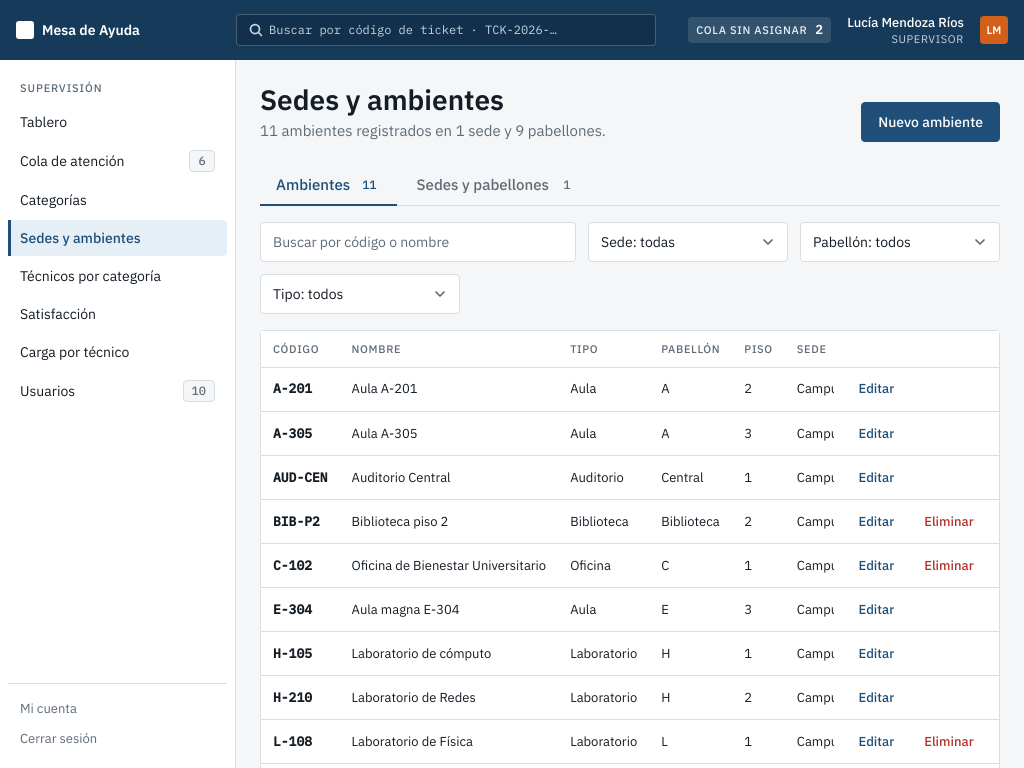
UbicacionesPage · ambientes › registra un ambiente en la ventana y lo muestra en la lista
Check: the element named "Secciones de sedes y ambientes" is shown, box [260, 166, 1000, 206]
Check: the text "Cola sin asignar" is shown, box [696, 22, 807, 38]
Click the button "Nuevo ambiente".
click(931, 122)  # box [861, 102, 1000, 142]
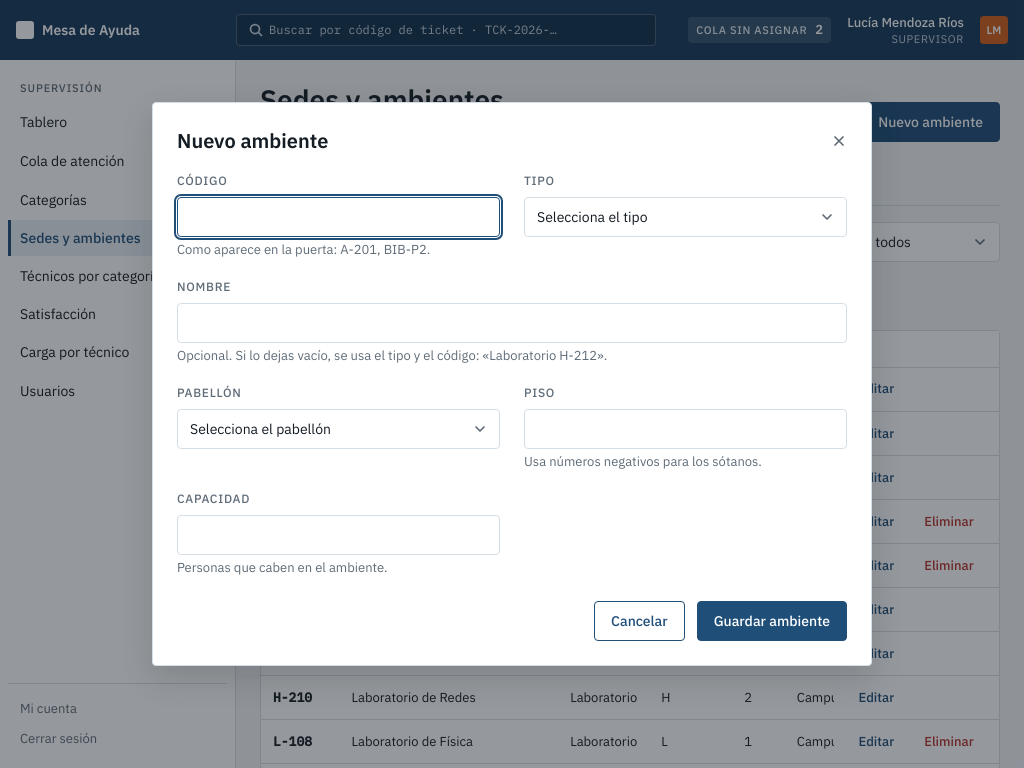
Type "h-212" into the field labelled "Código".
click(338, 217); type("h-212")  # box [177, 197, 500, 237]
Select "Laboratorio" in the dropdown labelled "Tipo" at x=686, y=217, box [524, 197, 847, 237]
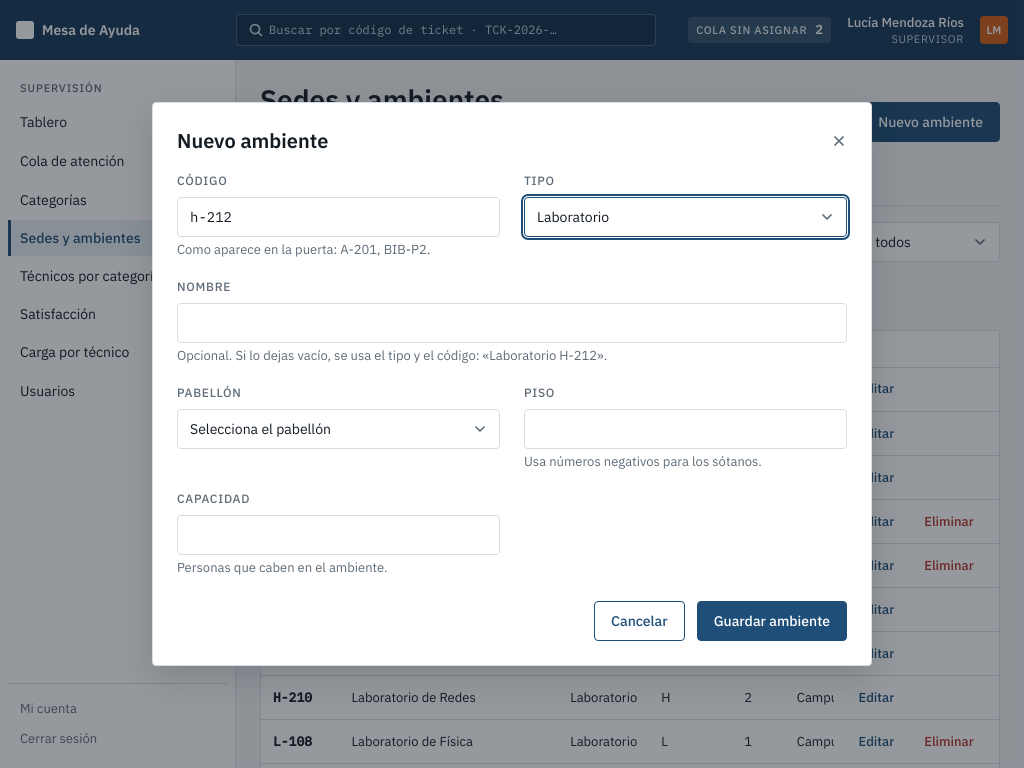
Select "H · Campus Monterrico" in the dropdown labelled "Pabellón" at x=338, y=429, box [177, 409, 500, 449]
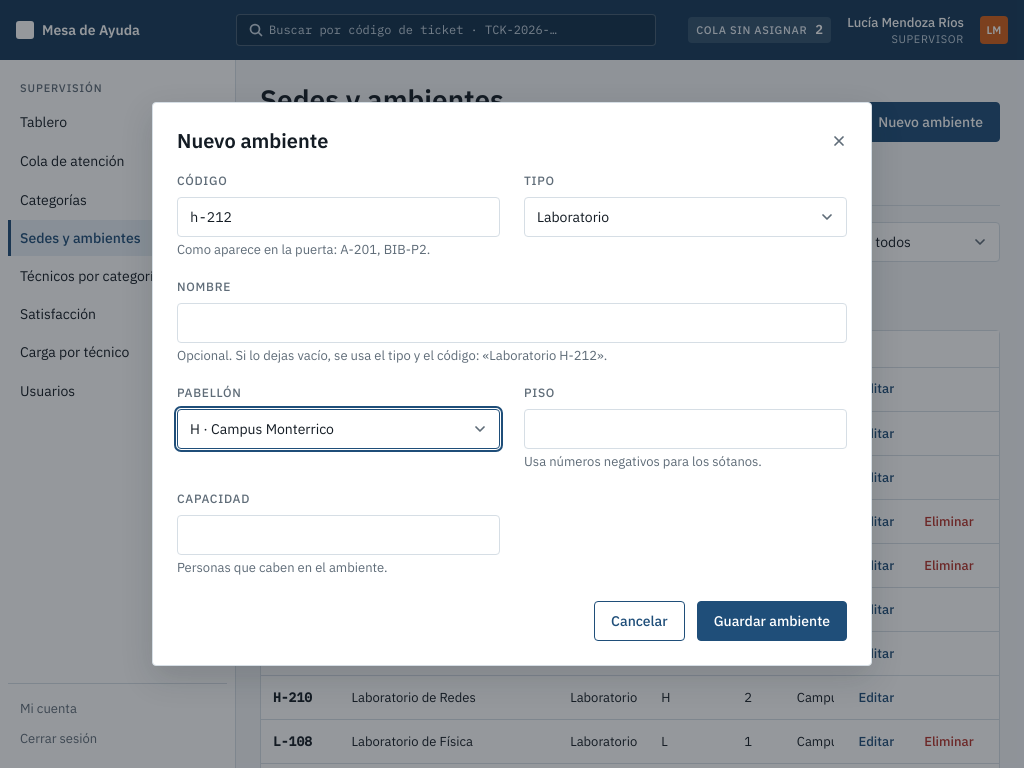
Type "2" into the field labelled "Piso".
click(686, 429); type("2")  # box [524, 409, 847, 449]
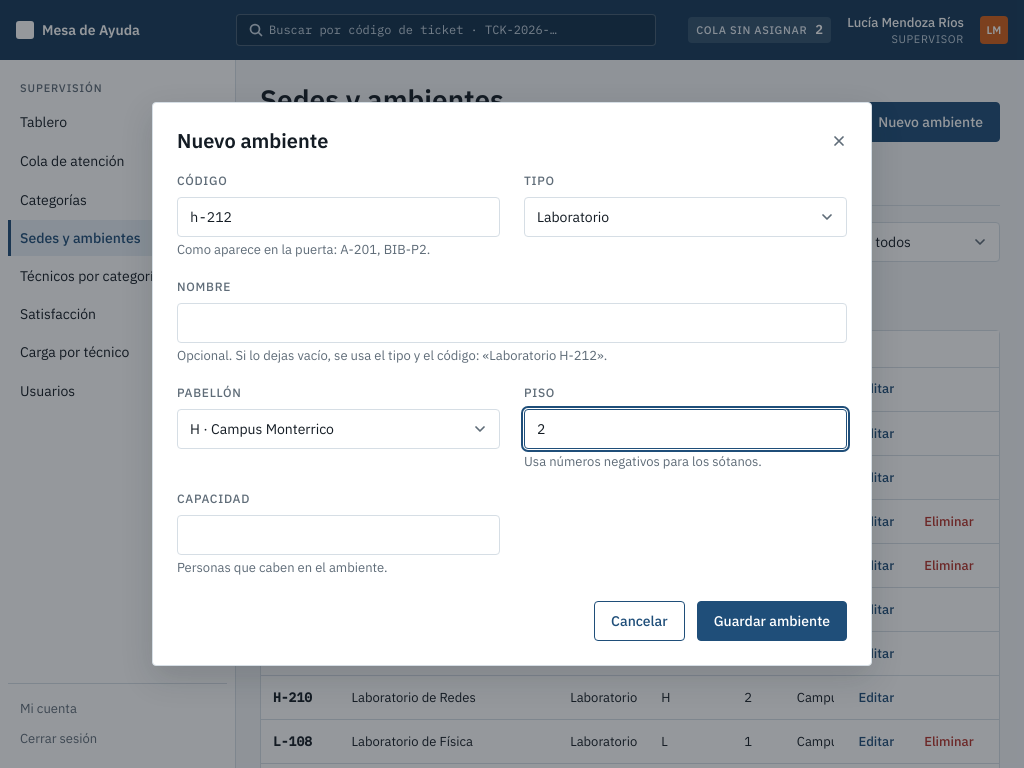
Type "30" into the field labelled "Capacidad".
click(338, 535); type("30")  # box [177, 515, 500, 555]
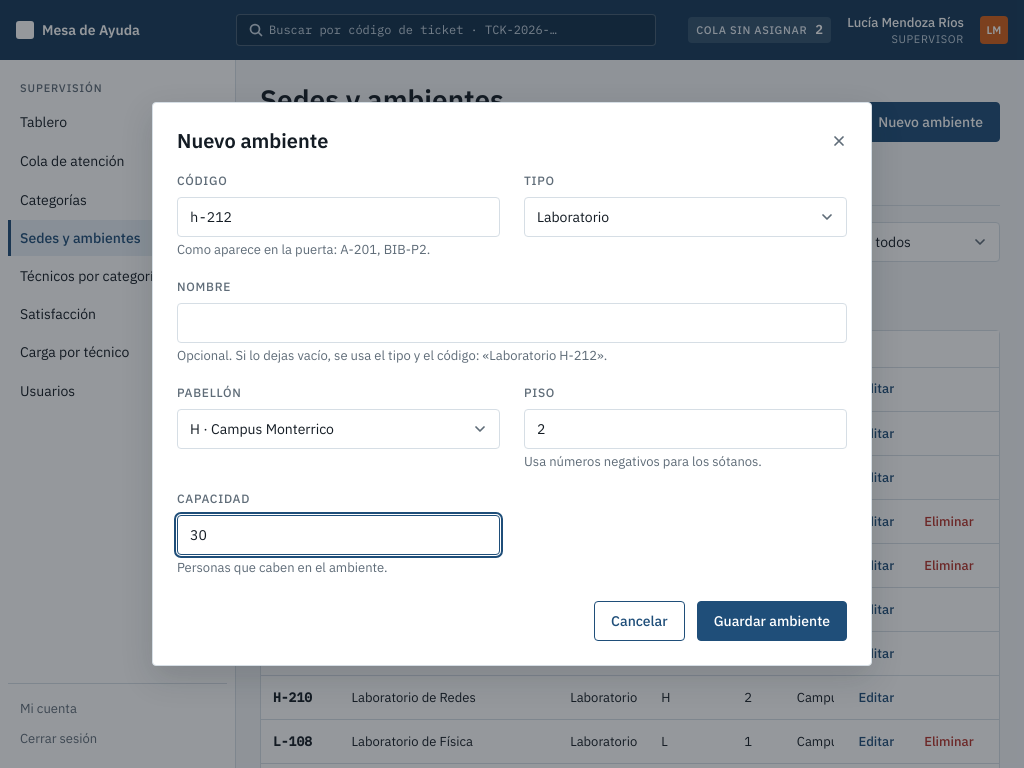
Click the button "Guardar ambiente".
click(772, 621)  # box [697, 601, 847, 641]
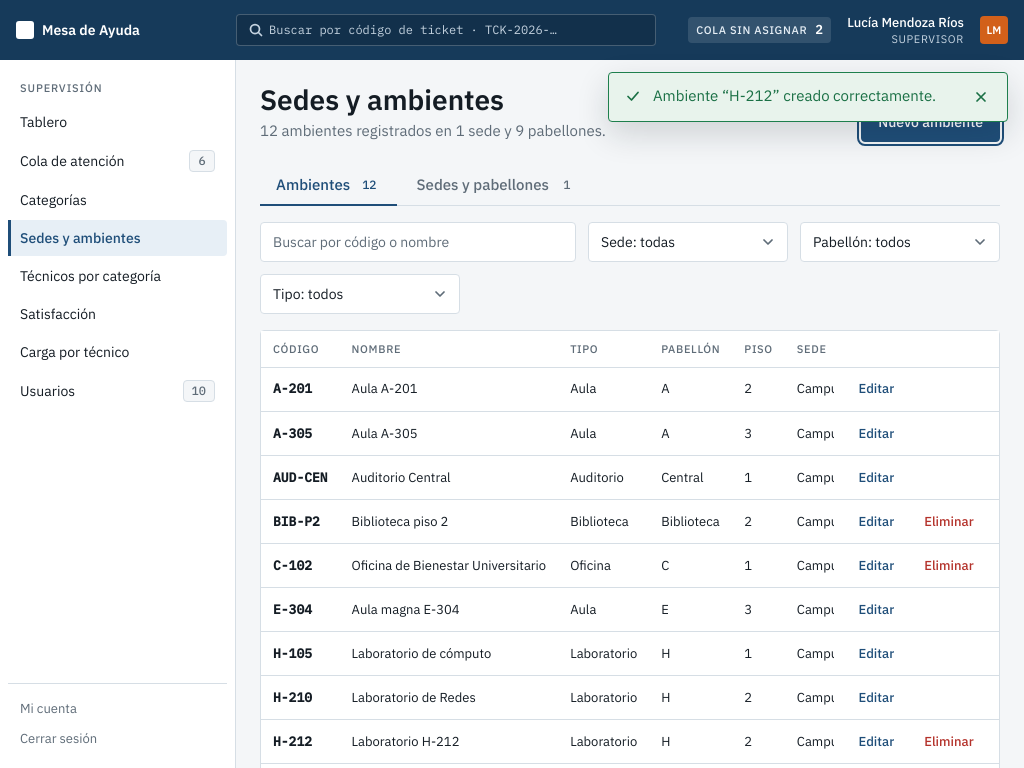
Check: the text "Ambiente “H-212” creado correctamente." is shown, box [653, 85, 955, 107]
Check: the text "12 ambientes registrados en 1 sede y 9 pabellones." is shown, box [260, 120, 606, 142]
